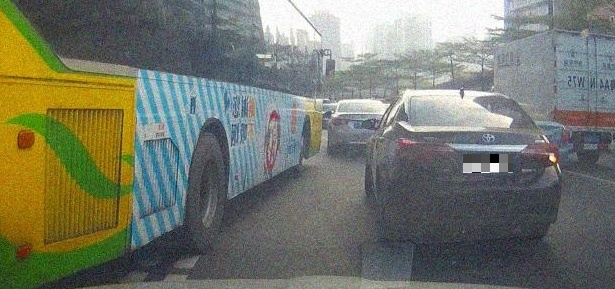L_light: (397, 139, 456, 166)
R_light: (516, 143, 561, 167)
T_light: (468, 121, 495, 127)
day-right: (395, 90, 562, 241)
plate_1: (463, 154, 513, 173)
